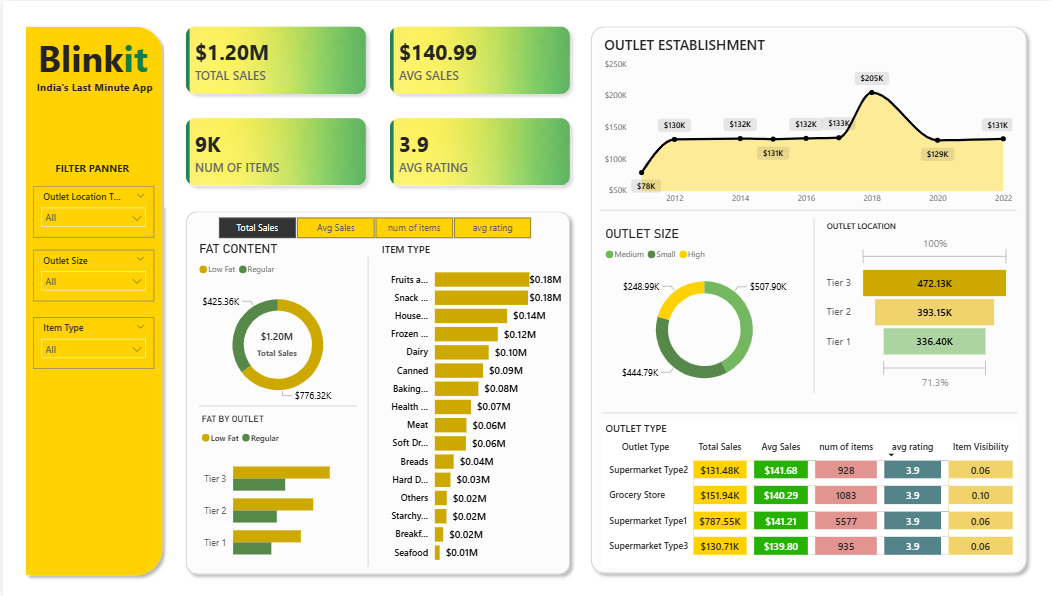

This screenshot's page, from the dashboard's own definition file:
{"tool":"powerbi","page":{"name":"Page 1","canvas":[1400,800],"ordinal":0},"visuals":[{"type":"shape","box":[21.7,25,200,750],"z":0},{"type":"textbox","box":[41.7,38.3,160,76.7],"z":1000},{"type":"textbox","box":[40,100,175.5,30],"z":2000},{"type":"cardVisual","fields":{"Data":["BlinkIT Grocery Data.Total Sales","BlinkIT Grocery Data.Avg Sales","BlinkIT Grocery Data.num of items","BlinkIT Grocery Data.avg rating"]},"box":[215.3,5.3,570,270],"z":3000},{"type":"shape","box":[235,271.7,530,501.7],"z":4000},{"type":"donutChart","title":"FAT CONTENT","fields":{"Y":["BlinkIT Grocery Data.Total Sales"],"Category":["BlinkIT Grocery Data.Item Fat Content"]},"box":[256.4,320,220,230],"z":5000},{"type":"slicer","fields":{"Values":["Metrics.Metrics"]},"box":[261.7,281.7,466.7,41.7],"z":6000},{"type":"card","fields":{"Values":["BlinkIT Grocery Data.Total Sales"]},"box":[328,424,74,66],"z":7000},{"type":"clusteredBarChart","title":"FAT BY OUTLET","fields":{"Y":["BlinkIT Grocery Data.Total Sales"],"Category":["BlinkIT Grocery Data.Outlet Location Type"],"Series":["BlinkIT Grocery Data.Item Fat Content"]},"box":[260,550,220,211.4],"z":8000},{"type":"shape","box":[261.4,530,210,20],"z":9000},{"type":"shape","box":[480.6,341.9,13.8,412.5],"z":10000},{"type":"barChart","title":"ITEM TYPE","fields":{"Y":["BlinkIT Grocery Data.Total Sales"],"Category":["BlinkIT Grocery Data.Item Type"]},"box":[500,321.4,250,438.6],"z":11000},{"type":"shape","box":[775.7,25.7,598.6,747.1],"z":12000},{"type":"lineChart","title":"OUTLET ESTABLISHMENT","fields":{"Y":["BlinkIT Grocery Data.Total Sales"],"Category":["BlinkIT Grocery Data.Outlet Establishment Year"]},"box":[797.1,45.7,554.3,235.7],"z":13000},{"type":"shape","box":[797.1,268.6,554.3,21.4],"z":14000},{"type":"donutChart","title":"OUTLET SIZE","fields":{"Y":["BlinkIT Grocery Data.Total Sales"],"Category":["BlinkIT Grocery Data.Outlet Size"]},"box":[798,300,274,230],"z":15000},{"type":"funnel","title":"OUTLET LOCATION","fields":{"Y":["Sum(BlinkIT Grocery Data.Sales)"],"Category":["BlinkIT Grocery Data.Outlet Location Type"]},"box":[1092.9,292.9,254.3,230],"z":16000},{"type":"shape","box":[1070,290,22.7,232.7],"z":17000},{"type":"pivotTable","title":"OUTLET TYPE","fields":{"Rows":["BlinkIT Grocery Data.Outlet Type"],"Values":["BlinkIT Grocery Data.Total Sales","BlinkIT Grocery Data.Avg Sales","BlinkIT Grocery Data.num of items","BlinkIT Grocery Data.avg rating","Avg(BlinkIT Grocery Data.Item Visibility)"]},"box":[798,560,554,196],"z":18000},{"type":"shape","box":[800,538.6,552.9,21.4],"z":19000},{"type":"slicer","fields":{"Values":["BlinkIT Grocery Data.Outlet Location Type"]},"box":[40,247.1,161.4,68.6],"z":20000},{"type":"slicer","fields":{"Values":["BlinkIT Grocery Data.Outlet Size"]},"box":[40,331.4,161.4,68.6],"z":21000},{"type":"slicer","fields":{"Values":["BlinkIT Grocery Data.Item Type"]},"box":[40,421.4,161.4,68.6],"z":22000},{"type":"textbox","box":[65.7,208.6,110,40],"z":23000}]}

Visuals, with their boxes in screenshot pixels (x1, y1, x2, y2), scaled from the page's 1400x800 canvas onto the 1051x596 screenshot:
shape: pyautogui.locateOnScreen(16, 19, 166, 577)
textbox: pyautogui.locateOnScreen(31, 29, 151, 86)
textbox: pyautogui.locateOnScreen(30, 74, 162, 97)
cardVisual - BlinkIT Grocery Data.Total Sales x BlinkIT Grocery Data.Avg Sales: pyautogui.locateOnScreen(162, 4, 590, 205)
shape: pyautogui.locateOnScreen(176, 202, 574, 576)
"FAT CONTENT" donutChart: pyautogui.locateOnScreen(192, 238, 358, 410)
slicer - Metrics.Metrics: pyautogui.locateOnScreen(196, 210, 547, 241)
card - BlinkIT Grocery Data.Total Sales: pyautogui.locateOnScreen(246, 316, 302, 365)
"FAT BY OUTLET" clusteredBarChart: pyautogui.locateOnScreen(195, 410, 360, 567)
shape: pyautogui.locateOnScreen(196, 395, 354, 410)
shape: pyautogui.locateOnScreen(361, 255, 371, 562)
"ITEM TYPE" barChart: pyautogui.locateOnScreen(375, 239, 563, 566)
shape: pyautogui.locateOnScreen(582, 19, 1032, 576)
"OUTLET ESTABLISHMENT" lineChart: pyautogui.locateOnScreen(598, 34, 1015, 210)
shape: pyautogui.locateOnScreen(598, 200, 1015, 216)
"OUTLET SIZE" donutChart: pyautogui.locateOnScreen(599, 224, 805, 395)
"OUTLET LOCATION" funnel: pyautogui.locateOnScreen(820, 218, 1011, 390)
shape: pyautogui.locateOnScreen(803, 216, 820, 389)
"OUTLET TYPE" pivotTable: pyautogui.locateOnScreen(599, 417, 1015, 563)
shape: pyautogui.locateOnScreen(601, 401, 1016, 417)
slicer - BlinkIT Grocery Data.Outlet Location Type: pyautogui.locateOnScreen(30, 184, 151, 235)
slicer - BlinkIT Grocery Data.Outlet Size: pyautogui.locateOnScreen(30, 247, 151, 298)
slicer - BlinkIT Grocery Data.Item Type: pyautogui.locateOnScreen(30, 314, 151, 365)
textbox: pyautogui.locateOnScreen(49, 155, 132, 185)
